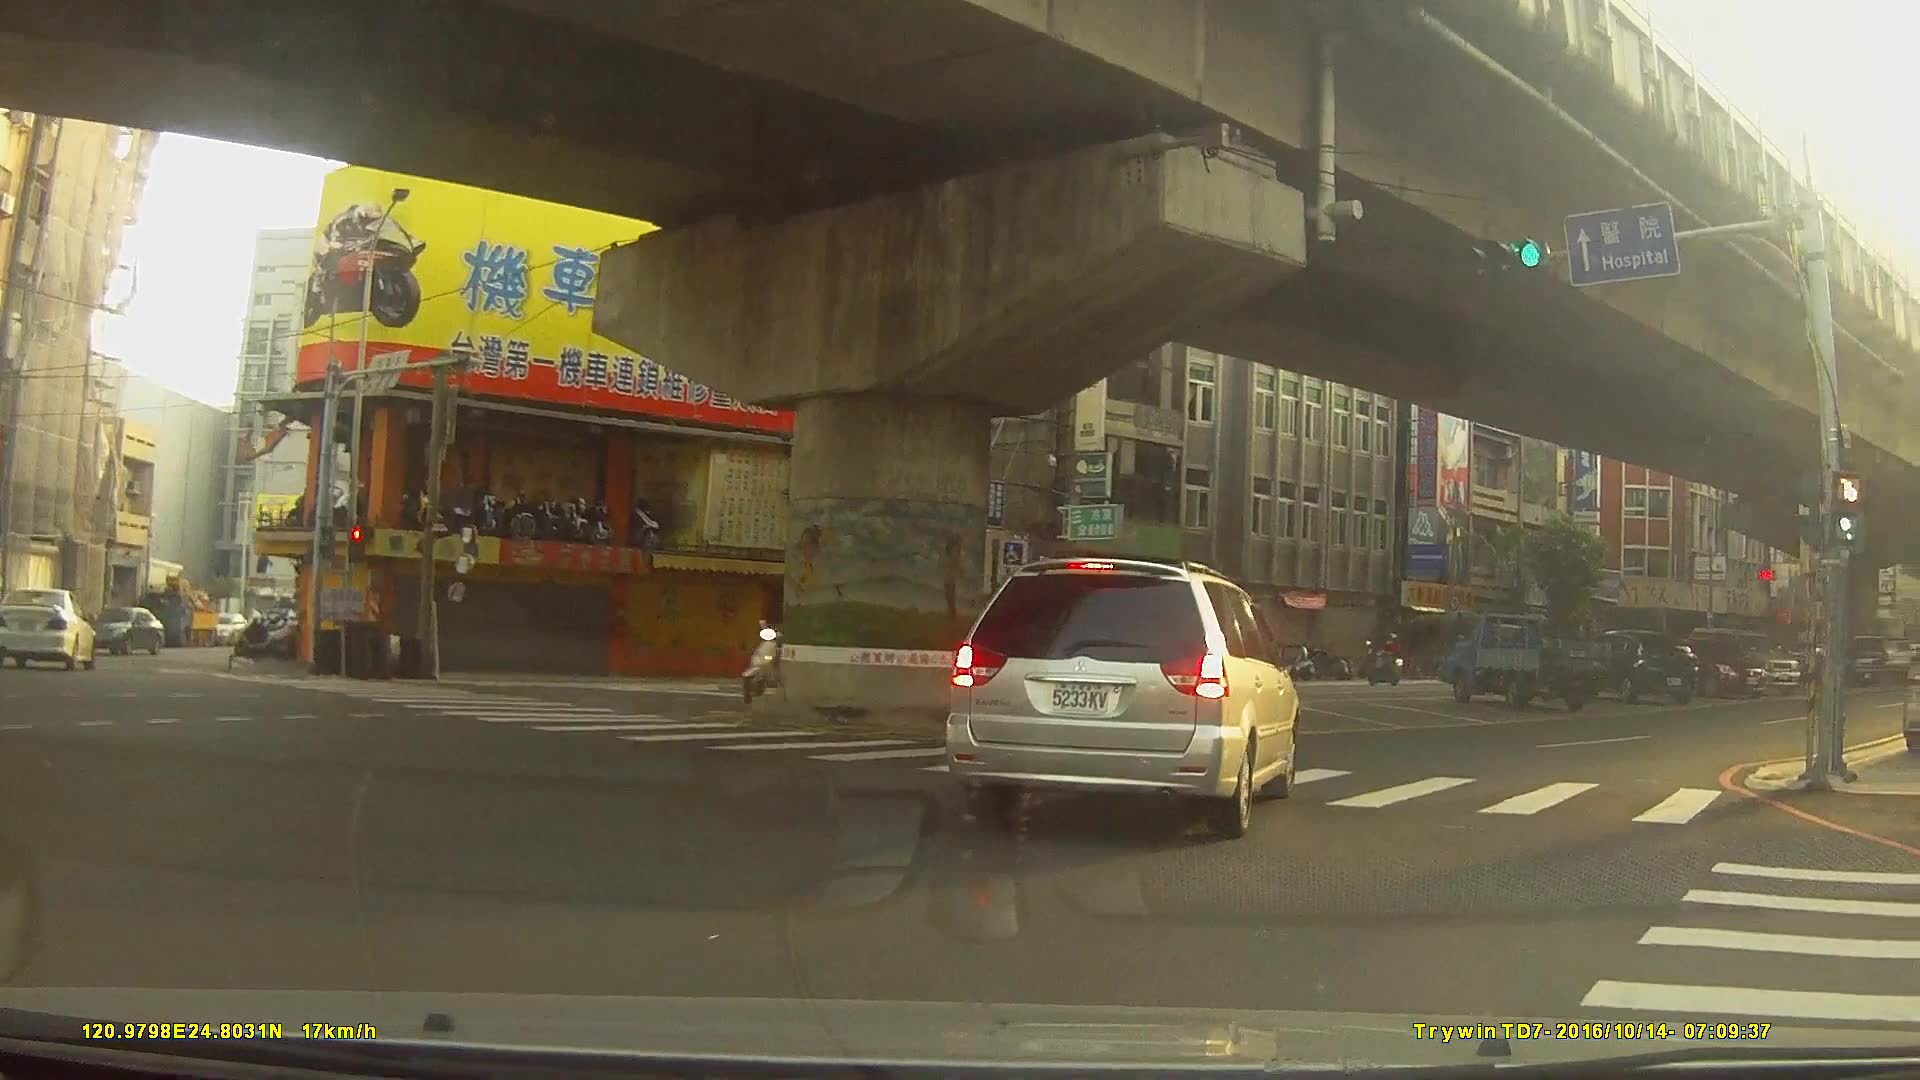rider: (737, 597, 824, 702), (1370, 634, 1406, 687)
vehicle: (940, 556, 1298, 838), (1436, 611, 1608, 711), (1567, 625, 1697, 701), (0, 584, 97, 670), (1661, 635, 1768, 698), (89, 603, 164, 654), (207, 612, 250, 643)
